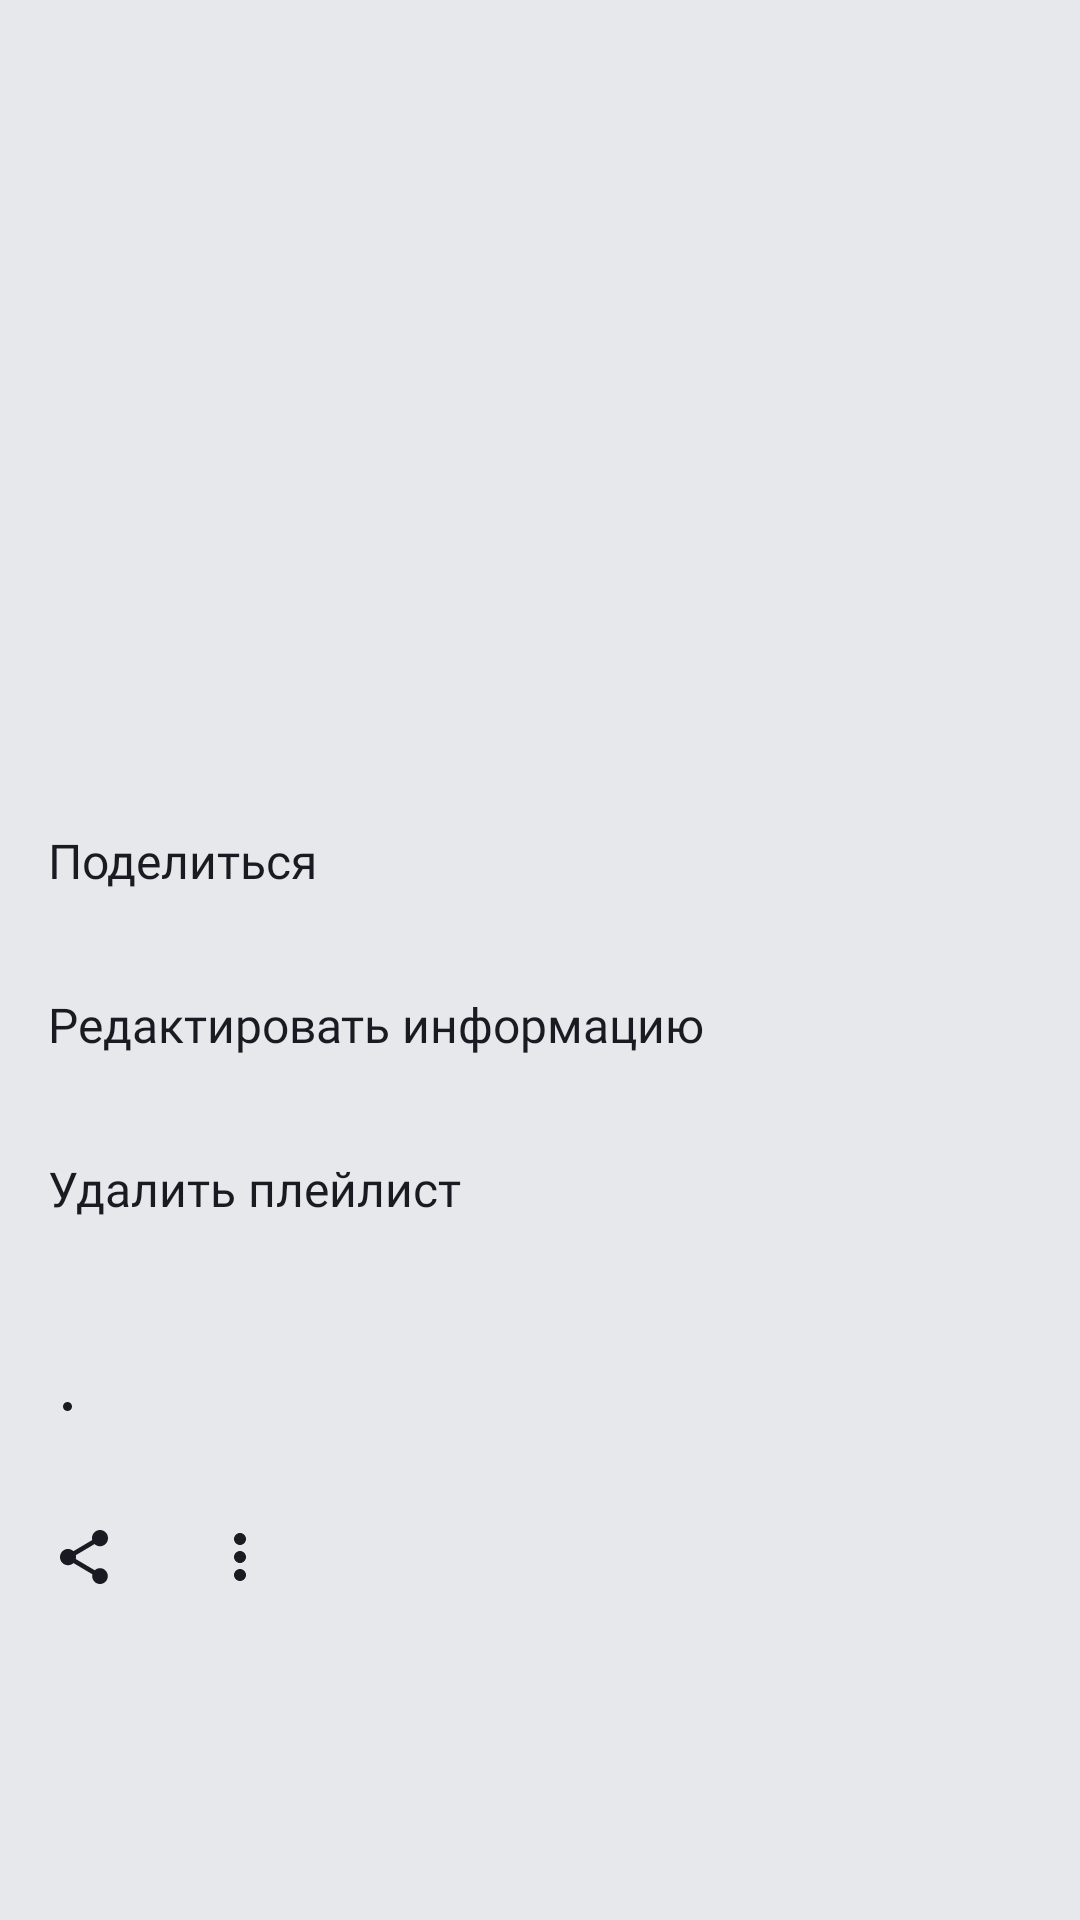

Screen size 1080x1920. Icon name, then its box in pixels as Rect(x1, y1, x2, y2):
drop menu: Rect(234, 1533, 246, 1581)
shareapp: Rect(60, 1530, 108, 1584)
